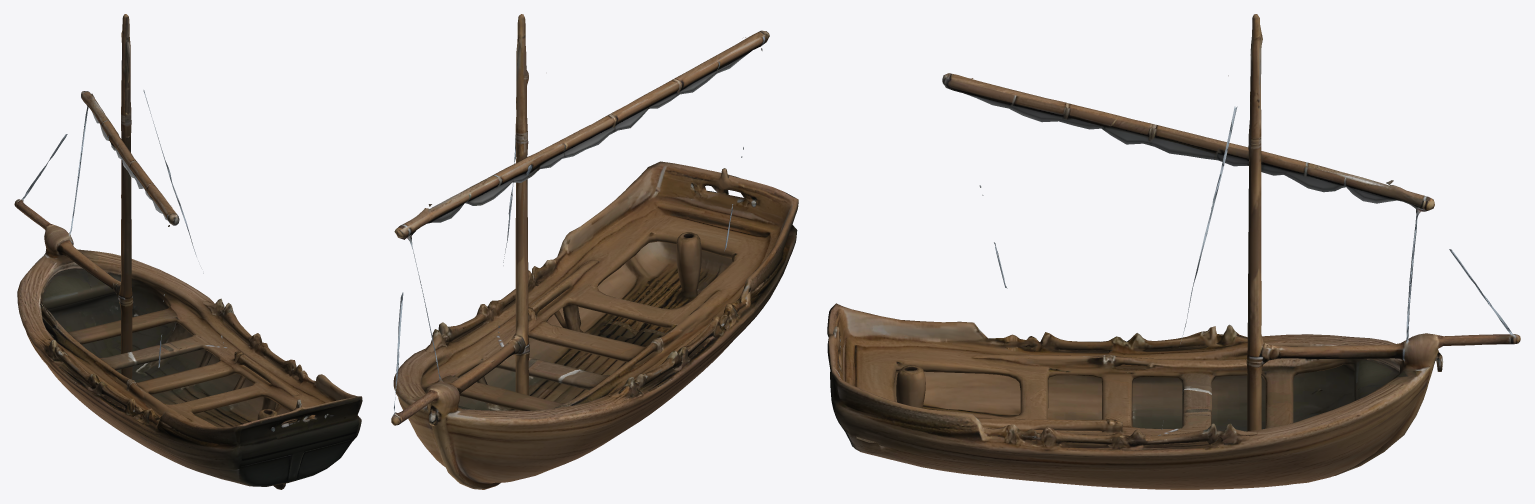
File: Boat.fbx
The picture shows the model from 3 angles, left to right: view 1: azimuth 30°, elevation 25°; view 2: azimuth 150°, elevation 25°; view 3: azimuth 270°, elevation 25°; orthographic projection. The views are drawn at different scales.
Visible parts, largest first — view 1: tripo_node_b5a8aeb9; view 2: tripo_node_b5a8aeb9; view 3: tripo_node_b5a8aeb9.
Boxes of the visible parts, left/top/right/bottom form: tripo_node_b5a8aeb9: left=14, top=14, right=362, bottom=489; tripo_node_b5a8aeb9: left=391, top=14, right=798, bottom=489; tripo_node_b5a8aeb9: left=827, top=14, right=1520, bottom=489.
Bounding box in the file's own units: 36.32 × 74.25 × 99.84.
Materials: 1 (1 with a texture image).
